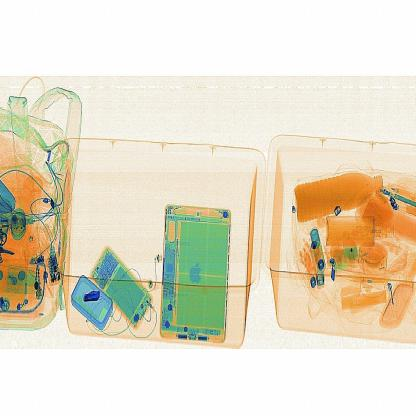knife: (78, 283, 109, 307)
